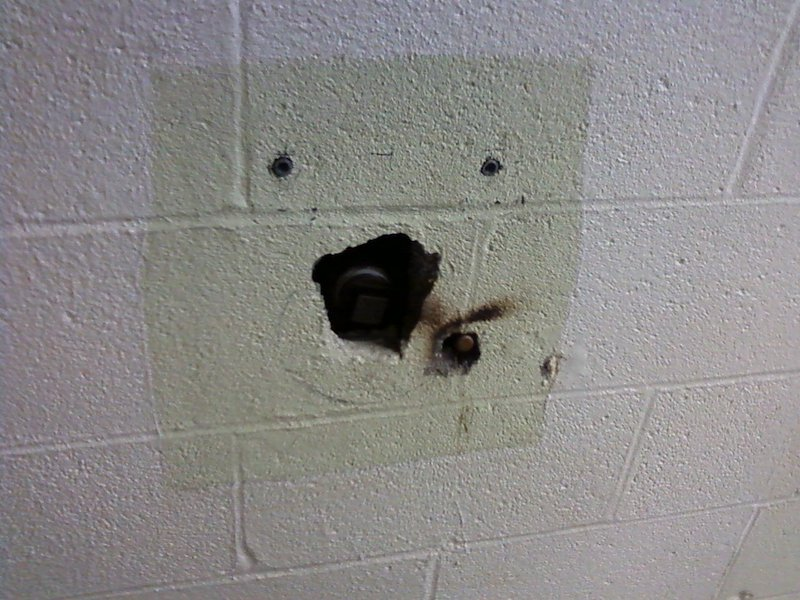hole: (270, 154, 295, 182), (480, 158, 502, 180)
